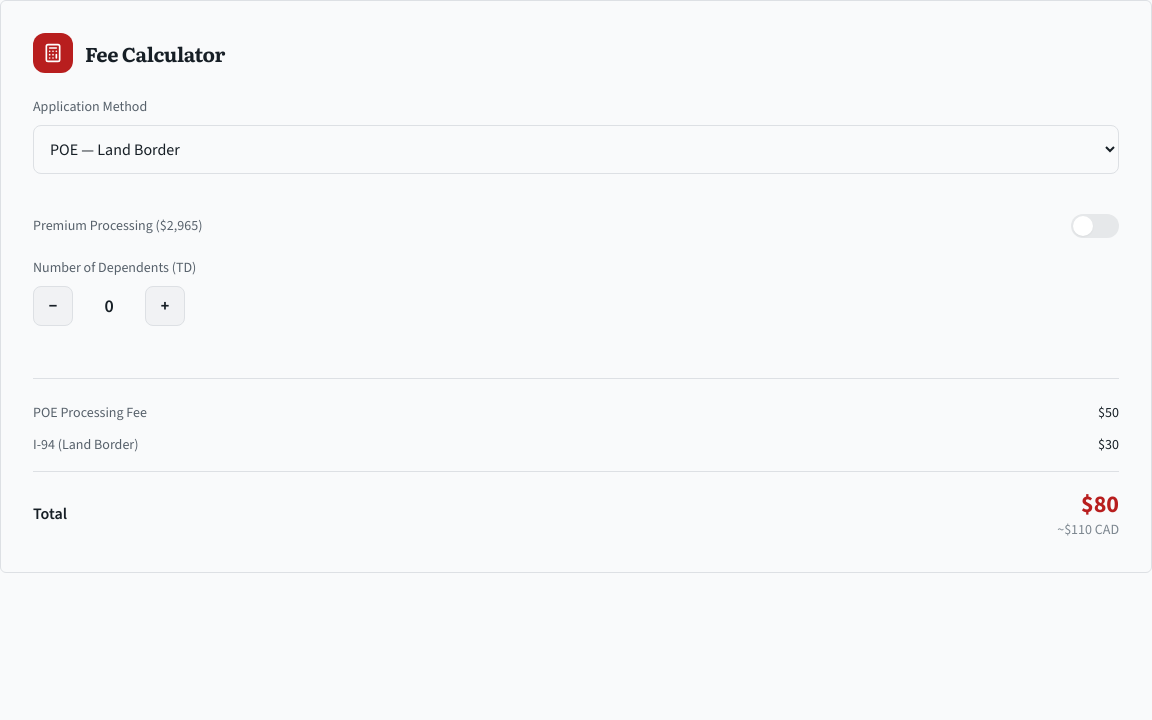
Scenario: FeeCalculator › does not charge dependents at airport
Click the button named "Increase dependents" at (165, 306), box [145,286,185,326]
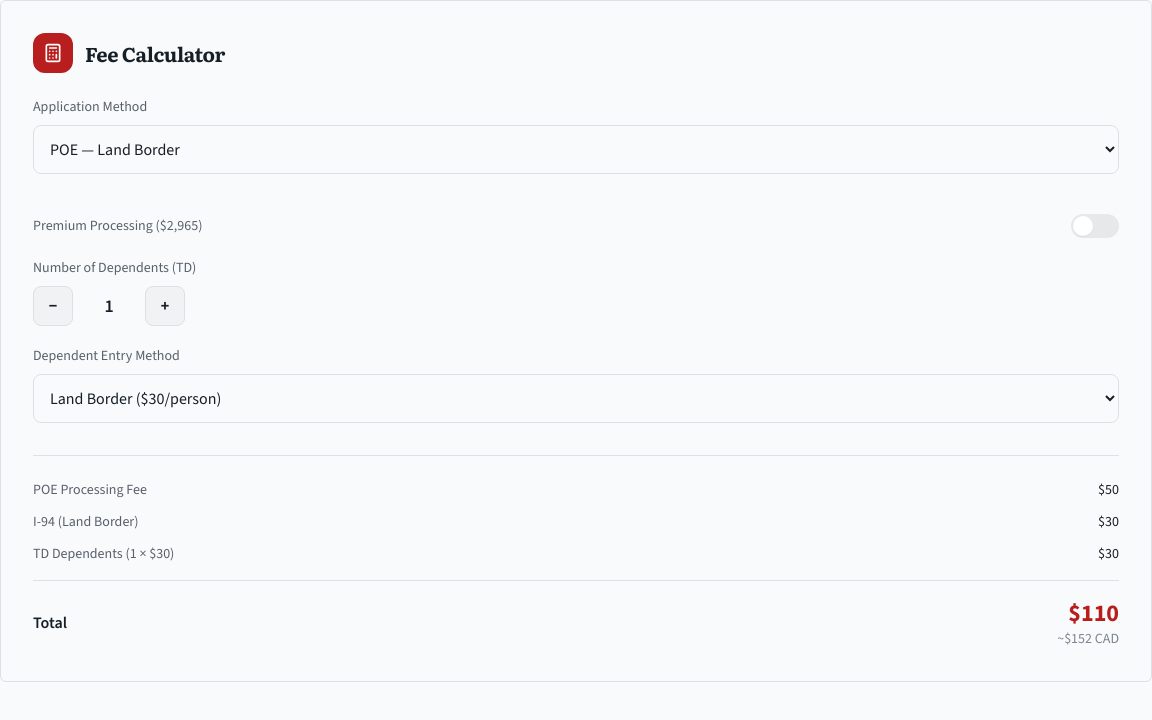
Select "Airport ($0)" in the dropdown showing "Land Border ($30/person)" at (576, 398), box [33,374,1119,423]
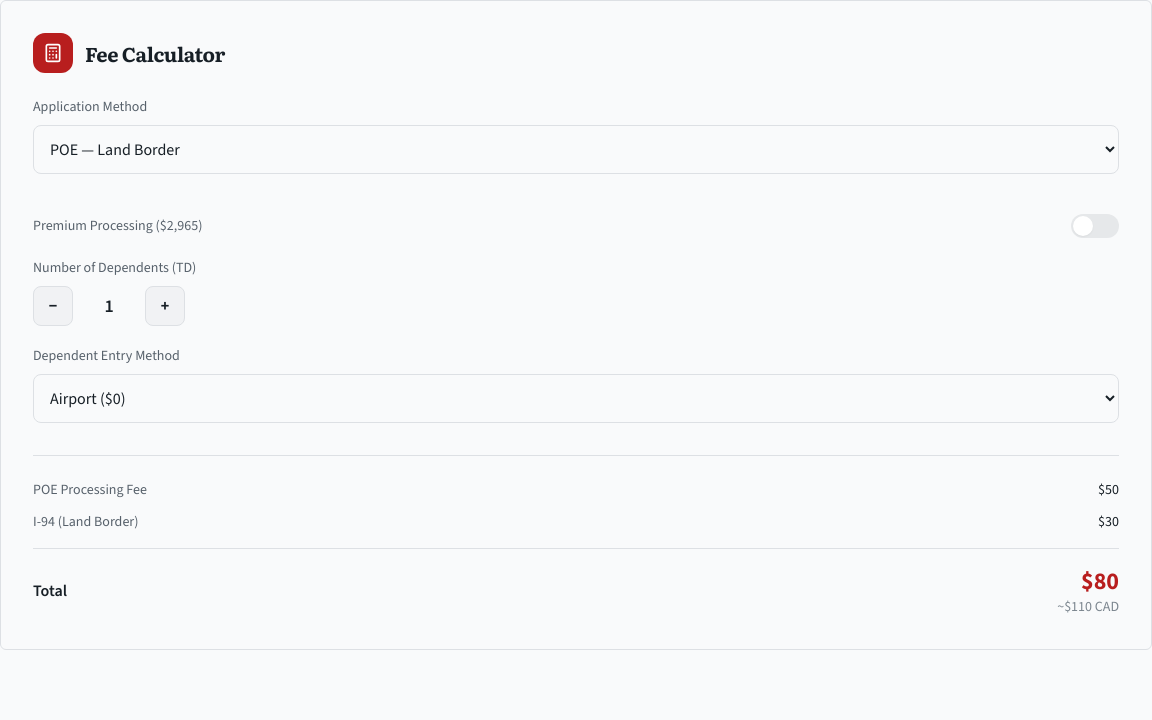
expect the text "$80" is shown: met, box [1081,565,1119,597]
